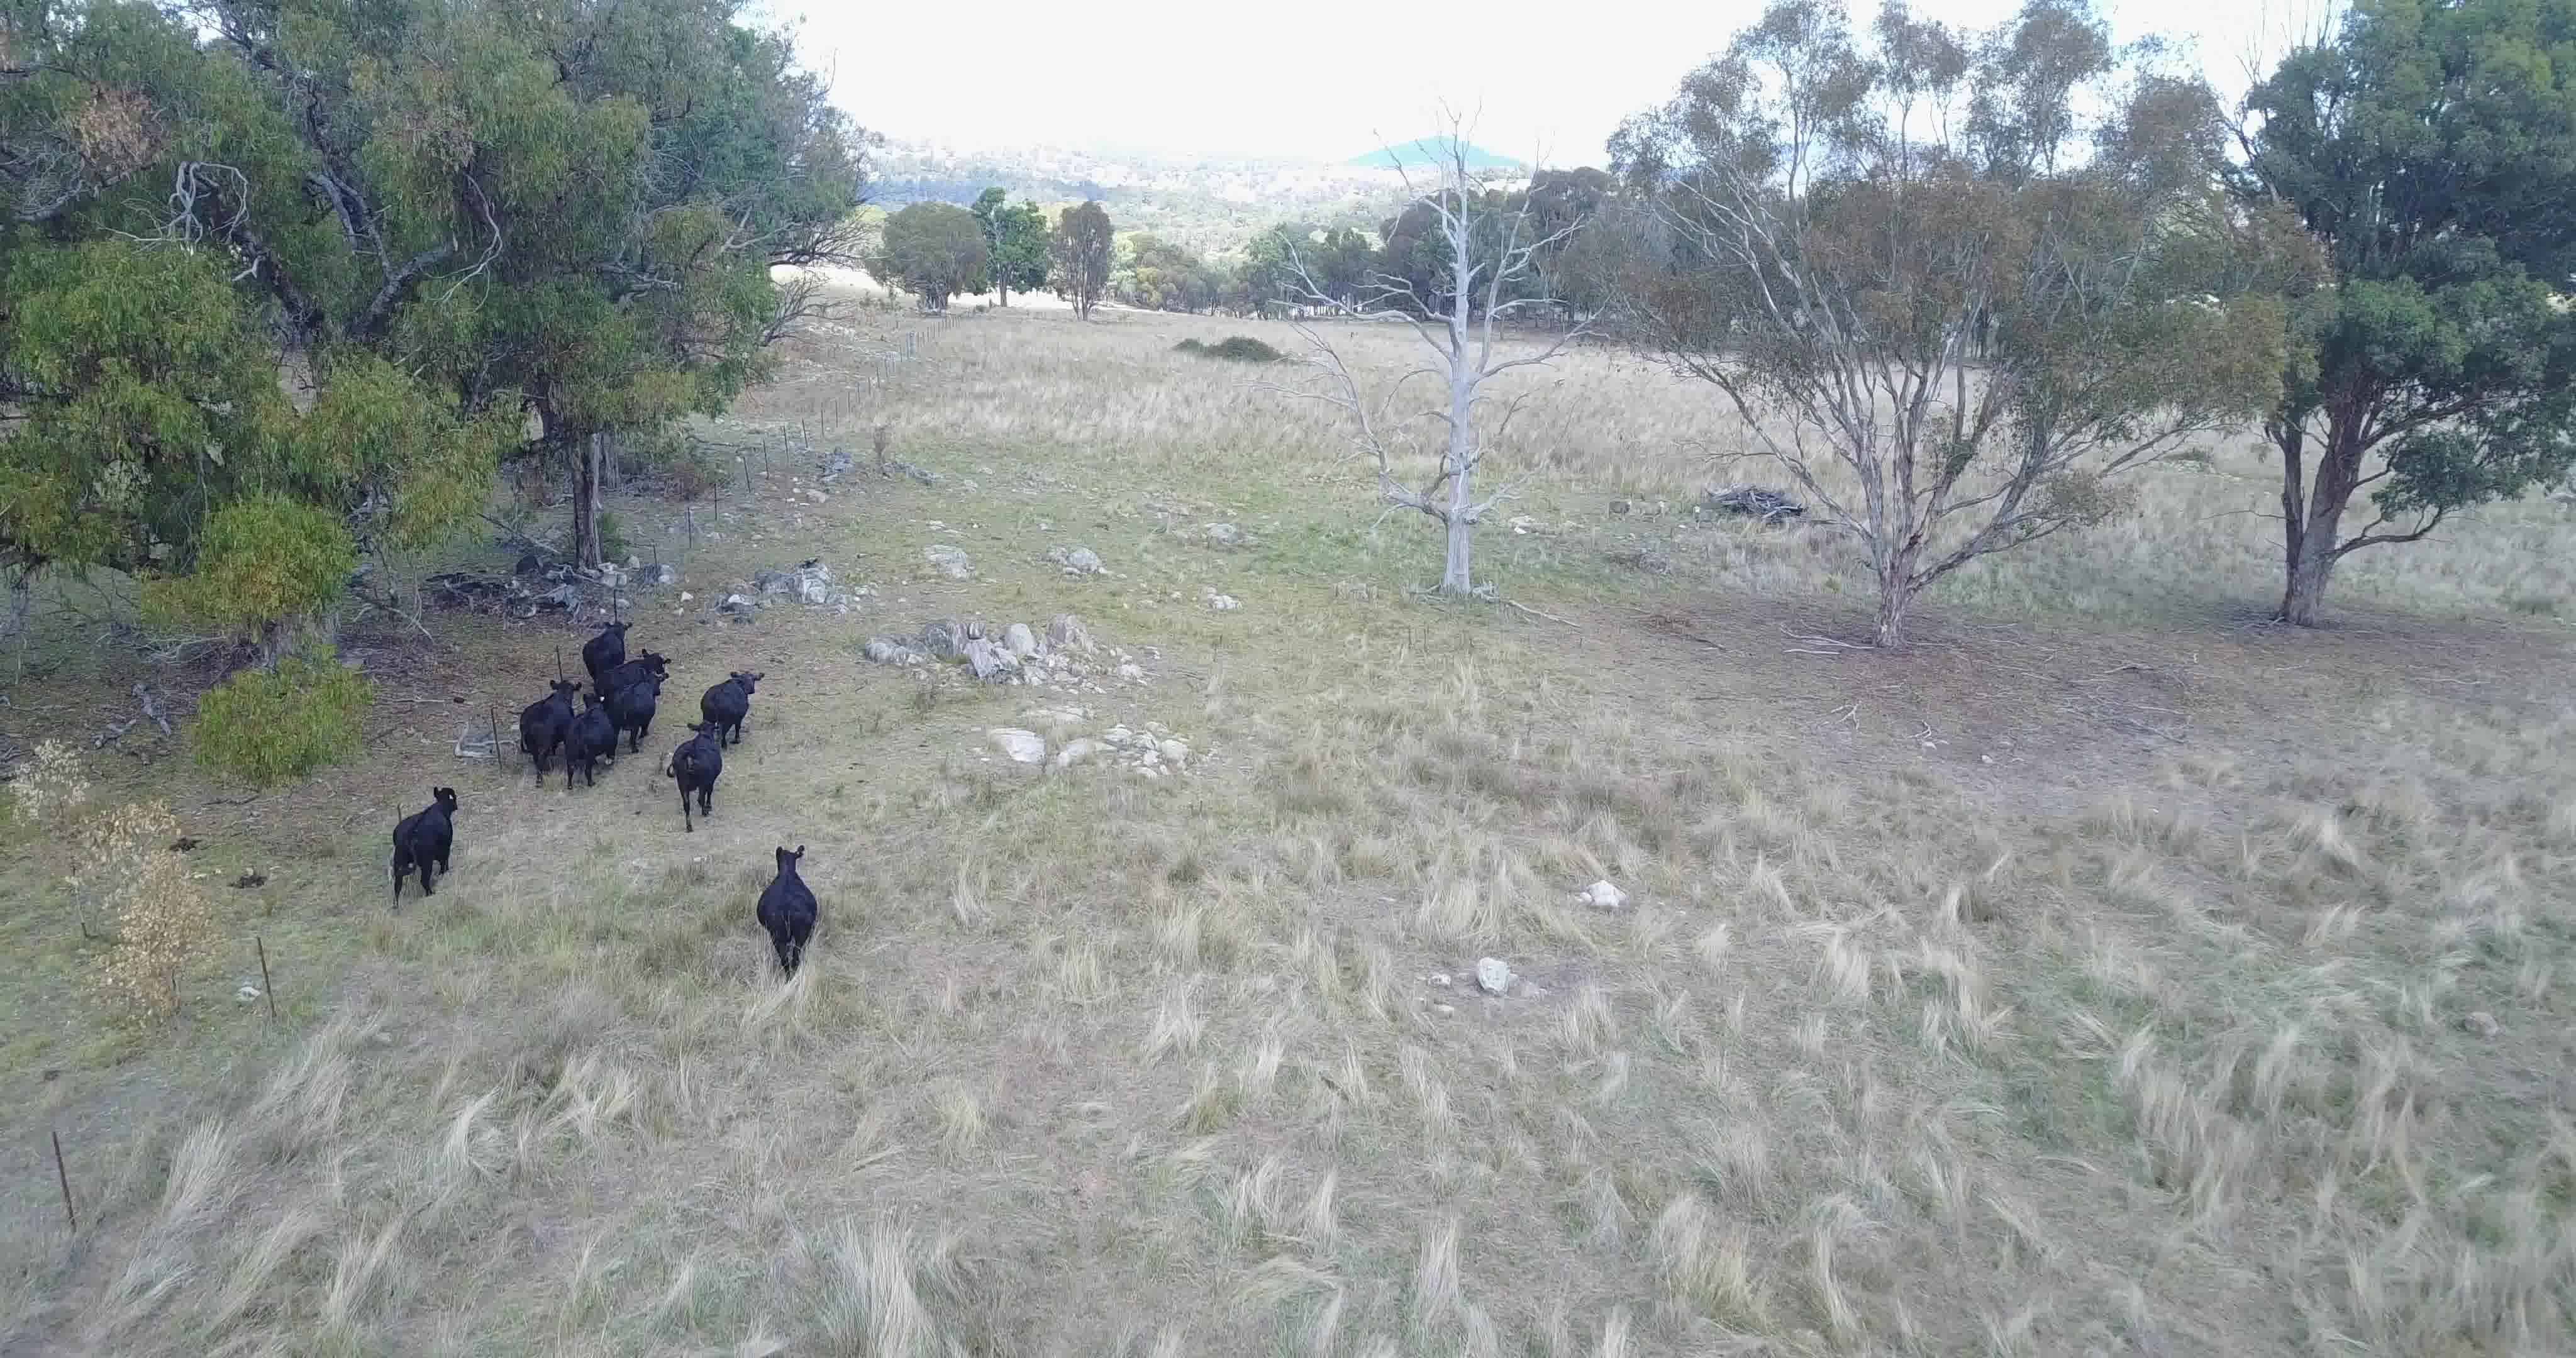cattle: (750, 843, 821, 985), (387, 785, 460, 913), (663, 719, 722, 837), (518, 675, 578, 791), (564, 688, 618, 801), (608, 668, 668, 755), (699, 665, 760, 739), (598, 649, 666, 692), (579, 617, 632, 666)
